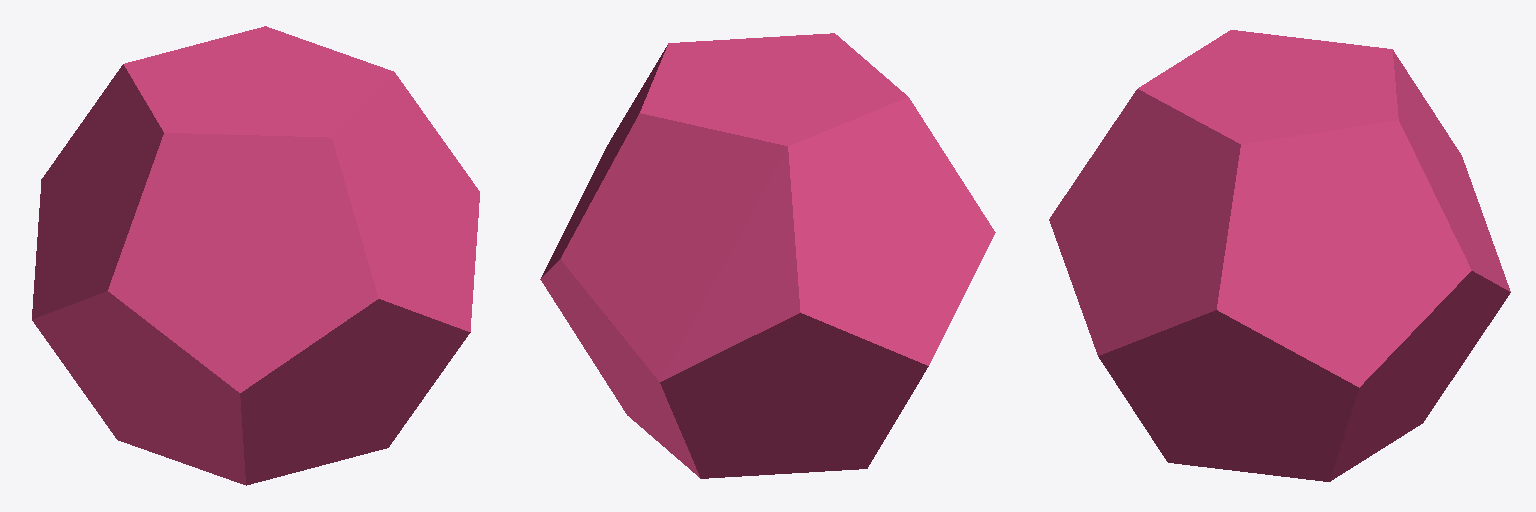
3 renders of one model, left to right at view 1: azimuth 30°, elevation 25°; view 2: azimuth 150°, elevation 25°; view 3: azimuth 270°, elevation 25°, orthographic.
Visible parts, largest first — view 1: Dodecaedron; view 2: Dodecaedron; view 3: Dodecaedron.
Boxes of the visible parts, <box> form: Dodecaedron: <box>32,26,479,485</box>; Dodecaedron: <box>540,33,995,478</box>; Dodecaedron: <box>1049,30,1510,481</box>.
Bounding box in the file's own units: 18.52 × 15.58 × 19.25.